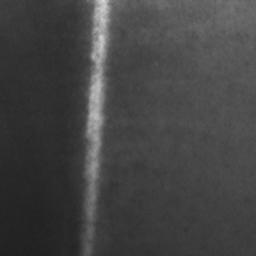Bright scratch: (82, 0, 113, 256)
